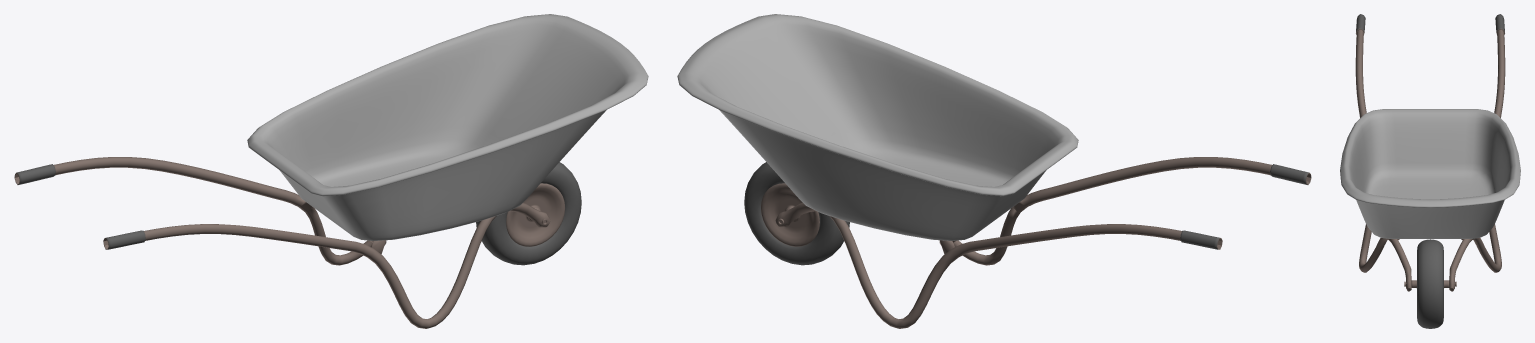
Rendered from wheelbarrow.glb.
3 views of the same model, side by side, from view 1: azimuth 30°, elevation 25°; view 2: azimuth 150°, elevation 25°; view 3: azimuth 270°, elevation 25° (orthographic). The views are drawn at different scales.
Parts seen in each view (by area): view 1: WheelHub_Circle.000; view 2: WheelHub_Circle.000; view 3: WheelHub_Circle.000.
Boxes of the visible parts, x1,y1,x2,y2 form: WheelHub_Circle.000: (14,14,648,328); WheelHub_Circle.000: (677,14,1311,328); WheelHub_Circle.000: (1340,14,1520,328).
Bounding box in the file's own units: 2.99 × 1.02 × 1.08.
